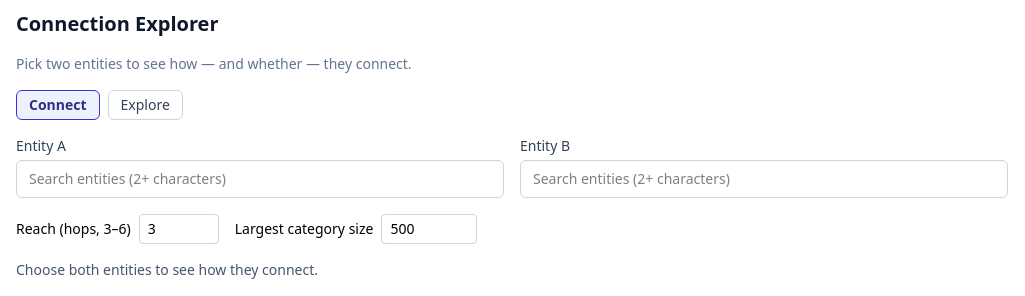
Test: ConnectionExplorerPage › enforces the reach floor (3) and the category-size default (500) in the controls (US4, FR-013/FR-014)
Note: Typing above the ceiling clamps to 6 (never sent as 8 → avoids a 422 the user can't read).
Replace the text in the number field labelled "Reach (hops, 3–6)" with "8" at [179, 229], box [139, 214, 219, 244]
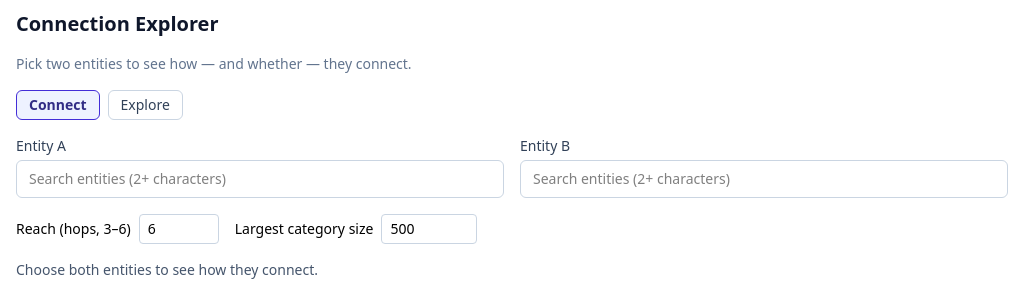
Expected: the number field labelled "Largest category size" holds "500", [381, 214, 477, 244]
Expected: the number field labelled "Reach (hops, 3–6)" holds "6", [139, 214, 219, 244]
